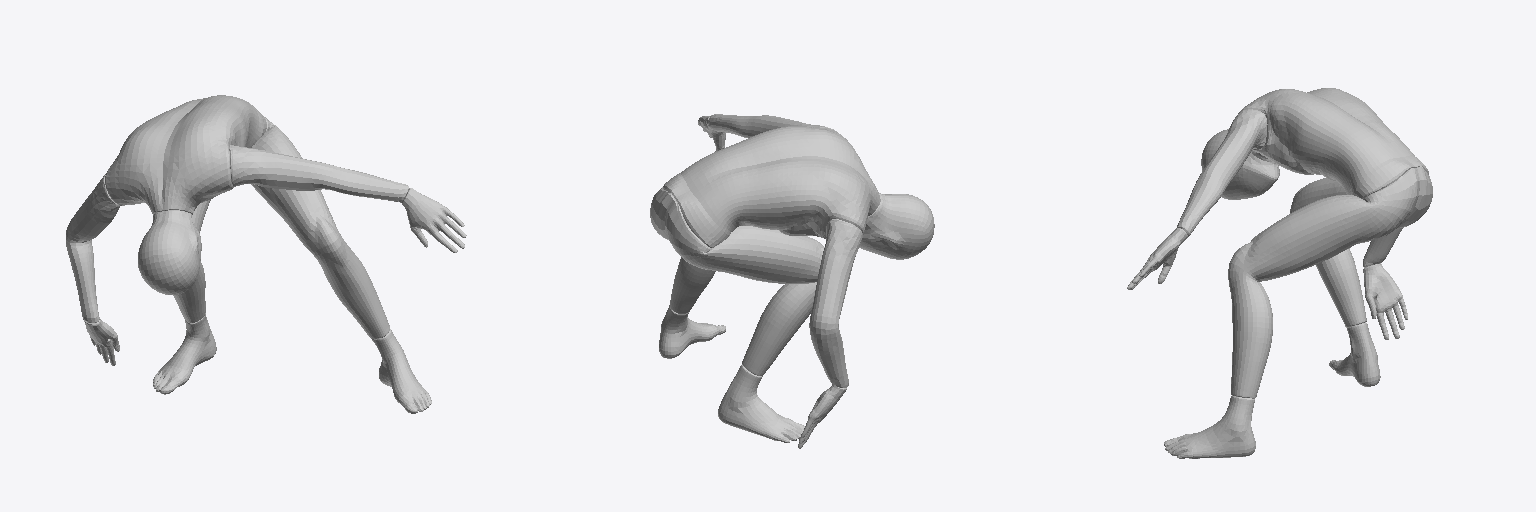
The model's file is standup60.obj.
3 renders of one model, left to right at view 1: azimuth 30°, elevation 25°; view 2: azimuth 150°, elevation 25°; view 3: azimuth 270°, elevation 25°, orthographic.
Parts seen in each view (by area): view 1: Ch36; view 2: Ch36; view 3: Ch36.
Boxes of the visible parts, box(x1,y1,x2,y2) form: Ch36: box(66, 95, 466, 413); Ch36: box(650, 114, 934, 448); Ch36: box(1127, 88, 1432, 458).
Bounding box in the file's own units: 0.8815 × 0.8609 × 0.8419.